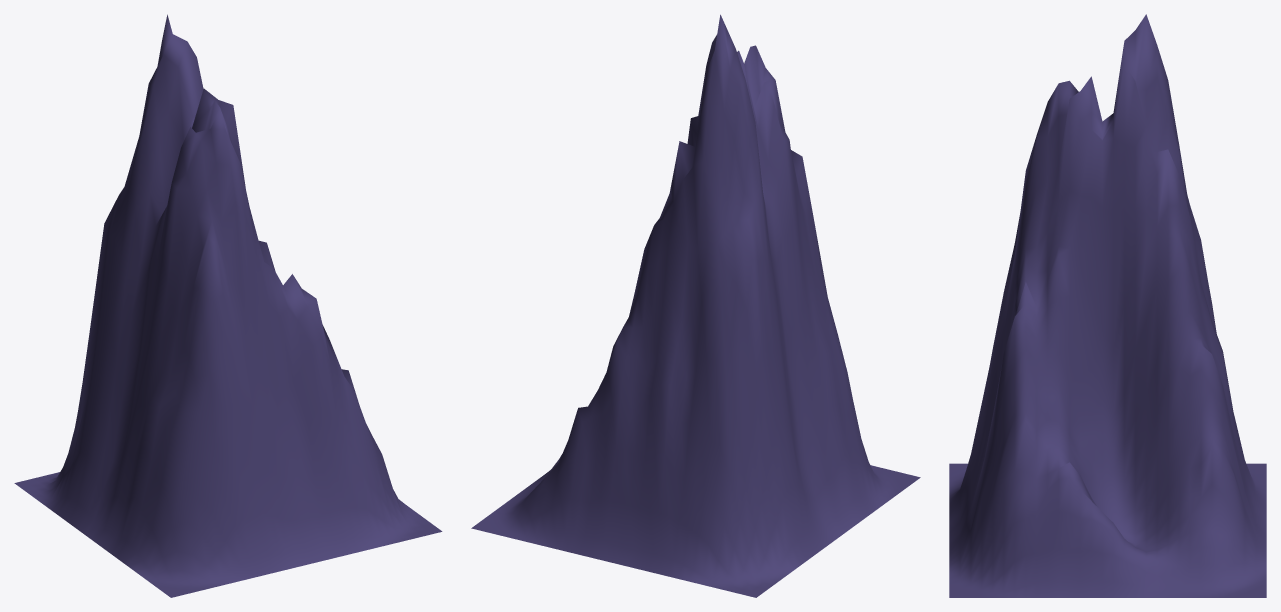
File: Terain Piece 2.fbx
3 renders of one model, left to right at view 1: azimuth 30°, elevation 25°; view 2: azimuth 150°, elevation 25°; view 3: azimuth 270°, elevation 25°, orthographic. The views are drawn at different scales.
Visible parts, largest first — view 1: Terain Piece 2; view 2: Terain Piece 2; view 3: Terain Piece 2.
Part boxes in pixels (<box>): Terain Piece 2: <box>14,14,442,597</box>; Terain Piece 2: <box>471,14,920,597</box>; Terain Piece 2: <box>949,14,1266,597</box>.
Size of the model in its own units: 200 by 345 by 200.
